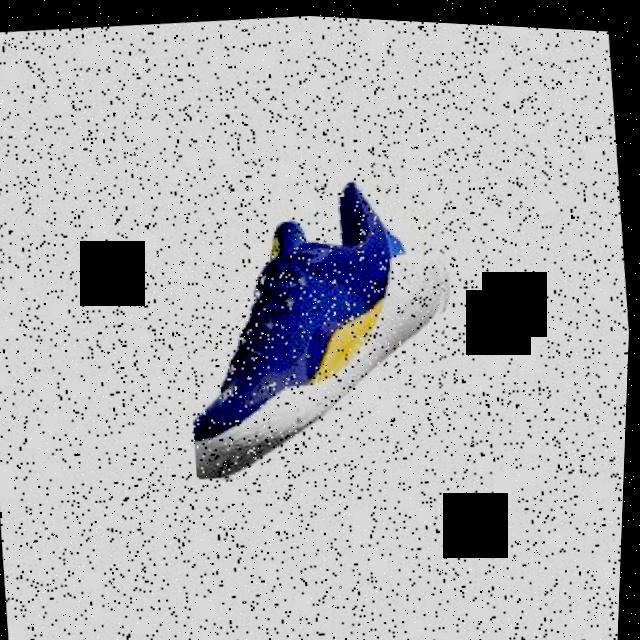shoe: (170, 161, 476, 487)
